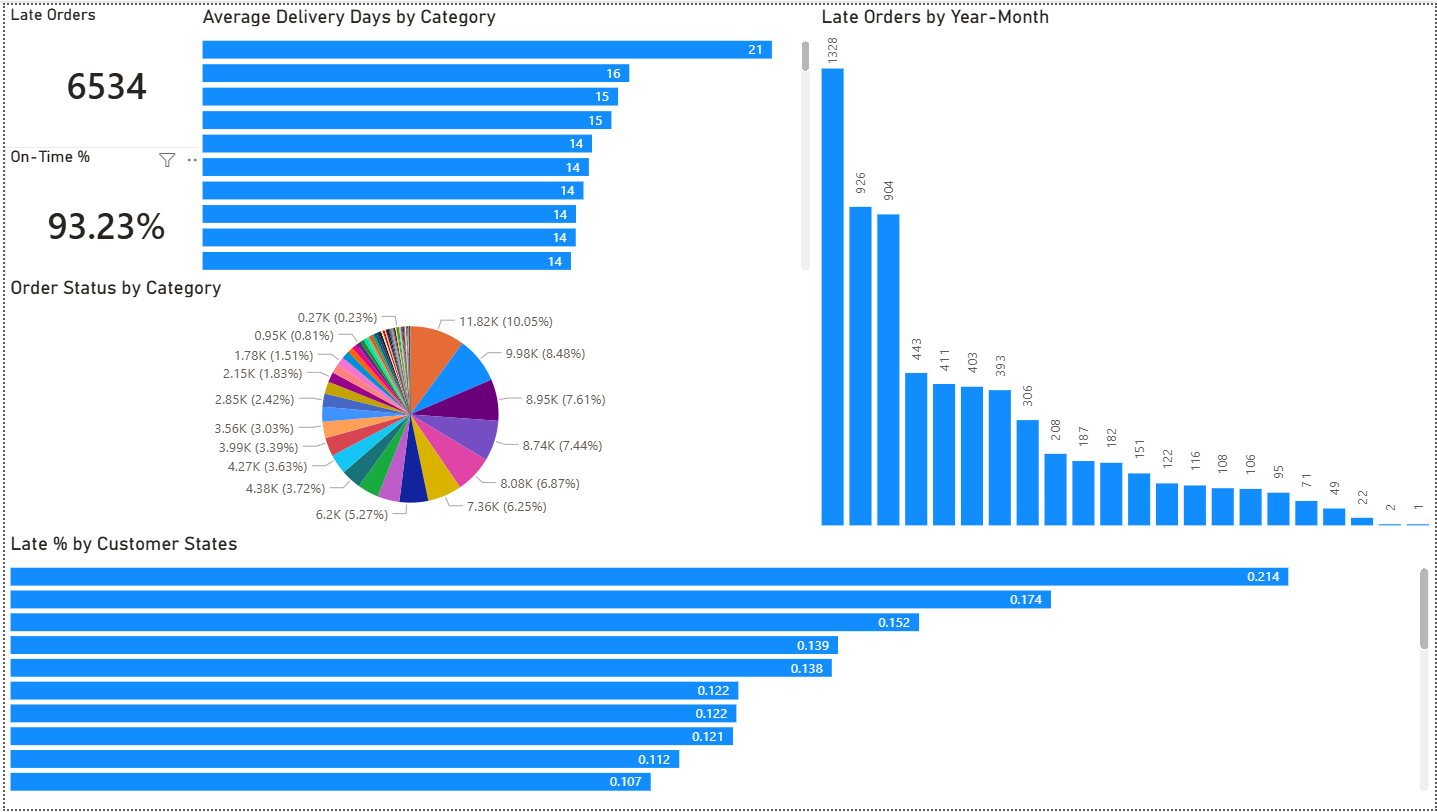

This screenshot's page, from the dashboard's own definition file:
{"tool":"powerbi","page":{"name":"Delivery & Logistics","canvas":[1280,720],"ordinal":4},"visuals":[{"type":"cardVisual","title":"Late Orders","fields":{"Data":["public bi_fact_sales.Late Orders"]},"box":[0,0,182,122],"z":0},{"type":"cardVisual","title":"On-Time %","fields":{"Data":["public bi_fact_sales.On-time %"]},"box":[0,127,182,118],"z":1000},{"type":"columnChart","title":"Late Orders by Year-Month","fields":{"Category":["DimDate.Year-Month"],"Y":["public bi_fact_sales.Late Orders"]},"box":[726,0,554,472],"z":2000},{"type":"barChart","title":"Average Delivery Days by Category","fields":{"Category":["public bi_fact_sales.category"],"Y":["public bi_fact_sales.Avg Delivery Days"]},"box":[172,0,554,243],"z":3000},{"type":"barChart","title":"Late % by Customer States","fields":{"Y":["public bi_fact_sales.Late %"],"Category":["public bi_fact_sales.customer_state"]},"box":[0,472,1280,237],"z":4000},{"type":"pieChart","title":"Order Status by Category","fields":{"Y":["CountNonNull(public bi_fact_sales.order_status)"],"Category":["public bi_fact_sales.category"]},"box":[0,243,726,229],"z":5000}]}

Visuals, with their boxes in screenshot pixels (x1, y1, x2, y2), scaled from the page's 1280x720 canvas onto the 1437x812 screenshot:
"Late Orders" cardVisual: bbox(0, 0, 204, 138)
"On-Time %" cardVisual: bbox(0, 143, 204, 276)
"Late Orders by Year-Month" columnChart: bbox(815, 0, 1436, 532)
"Average Delivery Days by Category" barChart: bbox(193, 0, 815, 274)
"Late % by Customer States" barChart: bbox(0, 532, 1436, 800)
"Order Status by Category" pieChart: bbox(0, 274, 815, 532)
